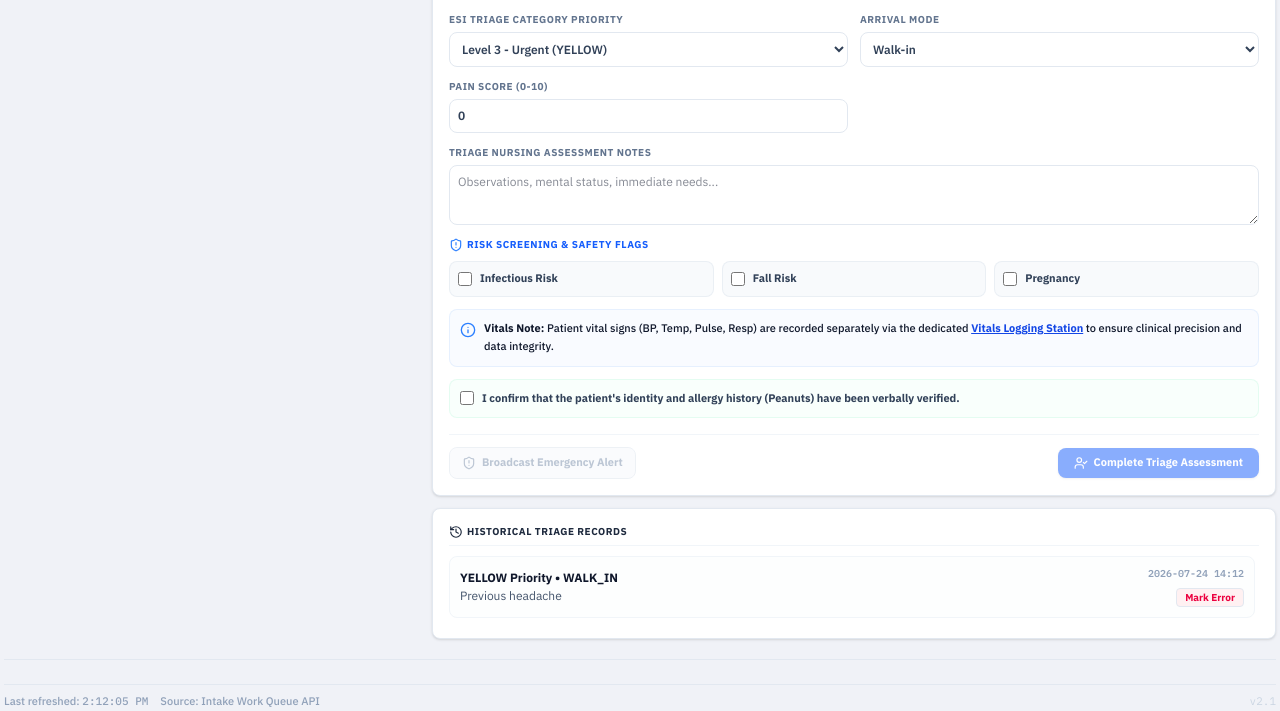
Test case: NurseTriageQueuePage › does not use mock fallback after failed correction
The width and height of the screenshot is (1280, 711).
(page scrolled)
Click the button "Mark Error". click: (1210, 598)
box: [1176,588,1244,607]
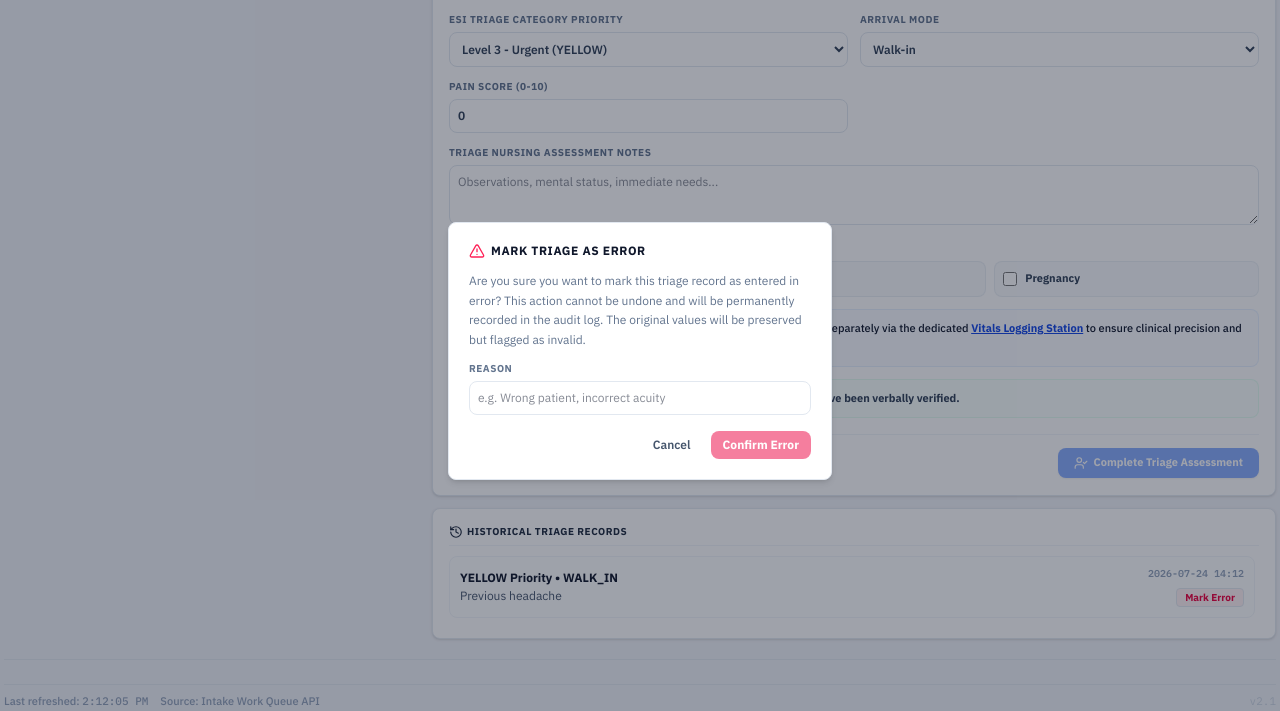
Expected: the heading "Mark Triage as Error" is shown, [469,243,646,259]
Type "Test reason" into the field with placeholder "e.g. Wrong patient, incorrect acuity". click: (640, 398)
box: [469,381,811,415]
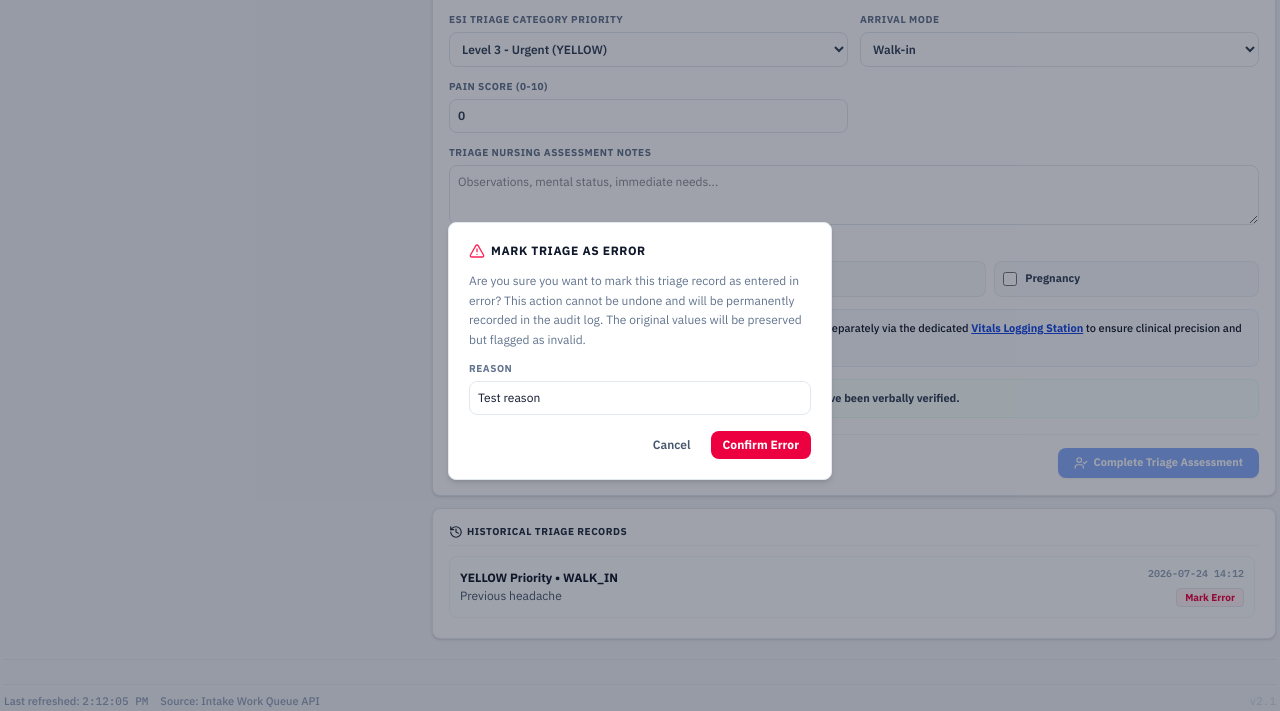
Click the button "Confirm Error". click: (761, 445)
box: [710,431,811,459]
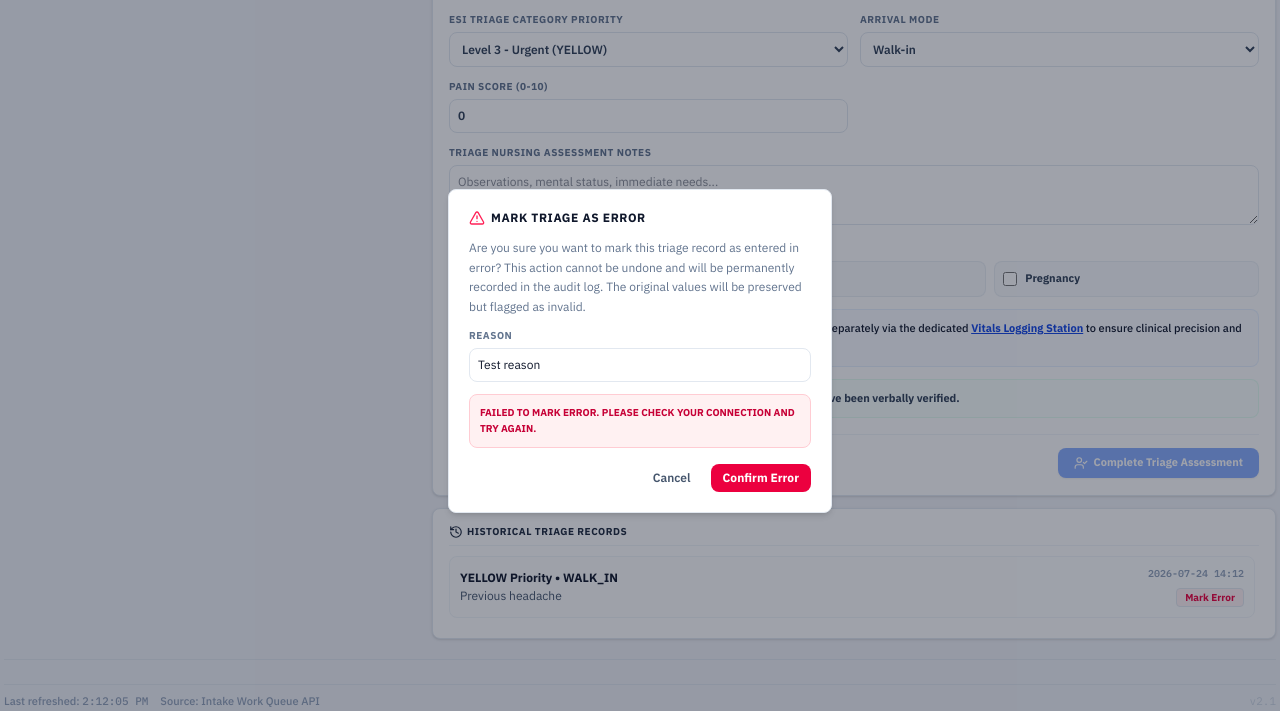
Expected: the heading "Mark Triage as Error" is shown, [469,210,646,226]
Expected: the text "Failed to mark error" is shown, [480,406,795,435]
